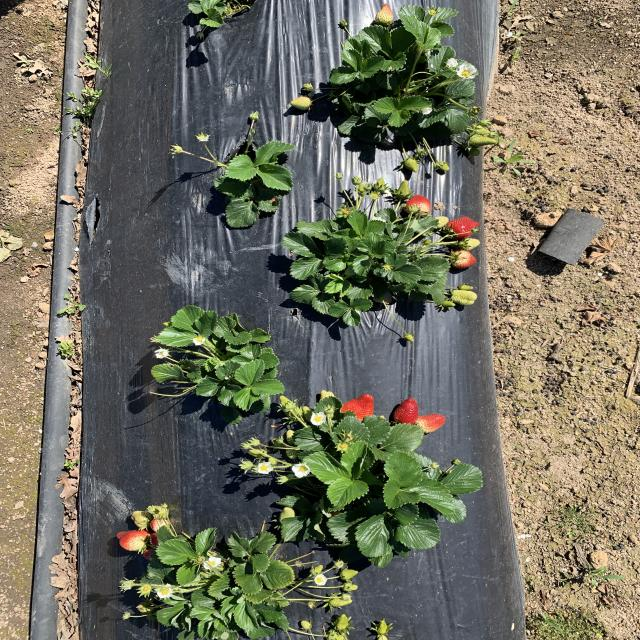unripe: (336, 393, 378, 422), (444, 216, 482, 240), (400, 192, 435, 218), (391, 398, 419, 427), (414, 414, 448, 435), (115, 530, 149, 551), (450, 246, 478, 268), (148, 533, 170, 547), (142, 549, 164, 561)
